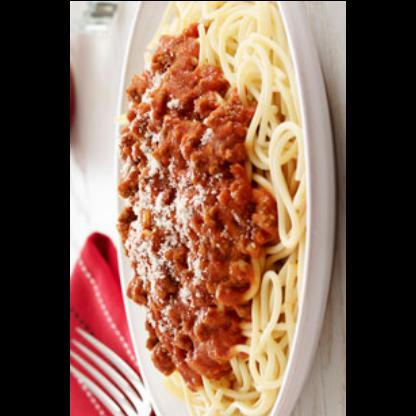spaghetti: (114, 2, 306, 415)
